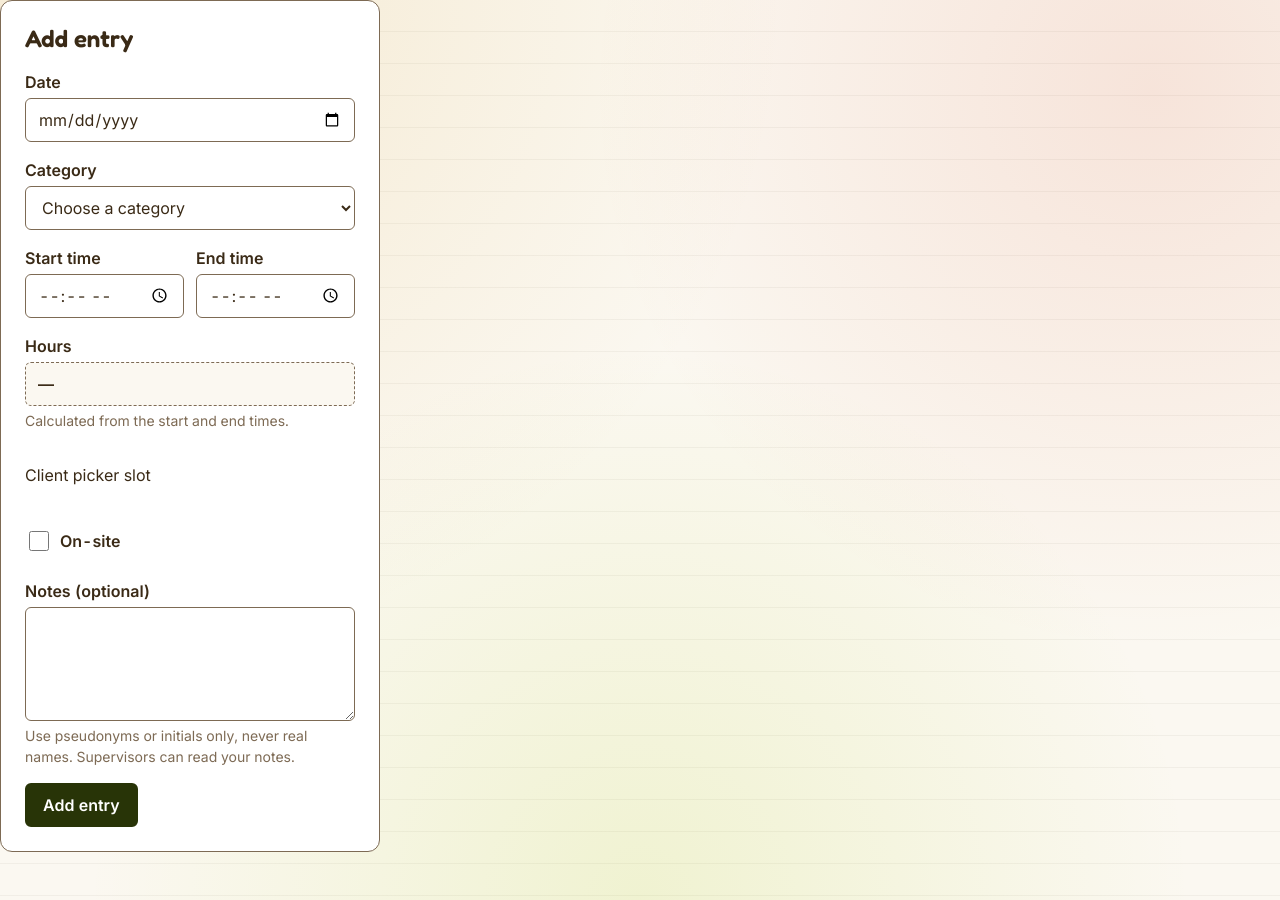
errors › server field errors land on the matching input and the message is shown
Step 1. Type "2026-10-12" into the date field labelled "Date" → x=190, y=120, box [25,98,355,142]
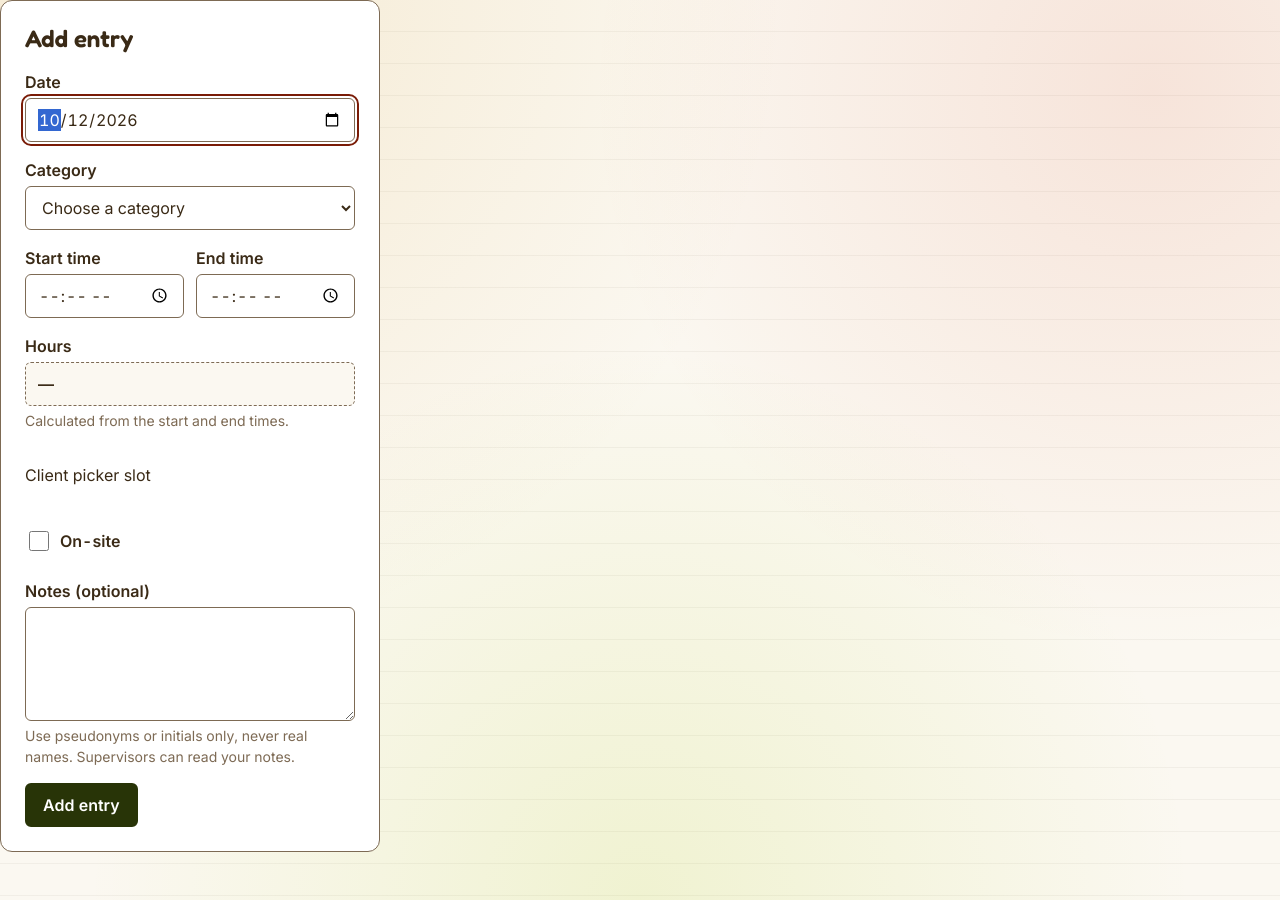
Step 2. Select "Individual Counseling" in the dropdown labelled "Category" → x=190, y=208, box [25,186,355,230]
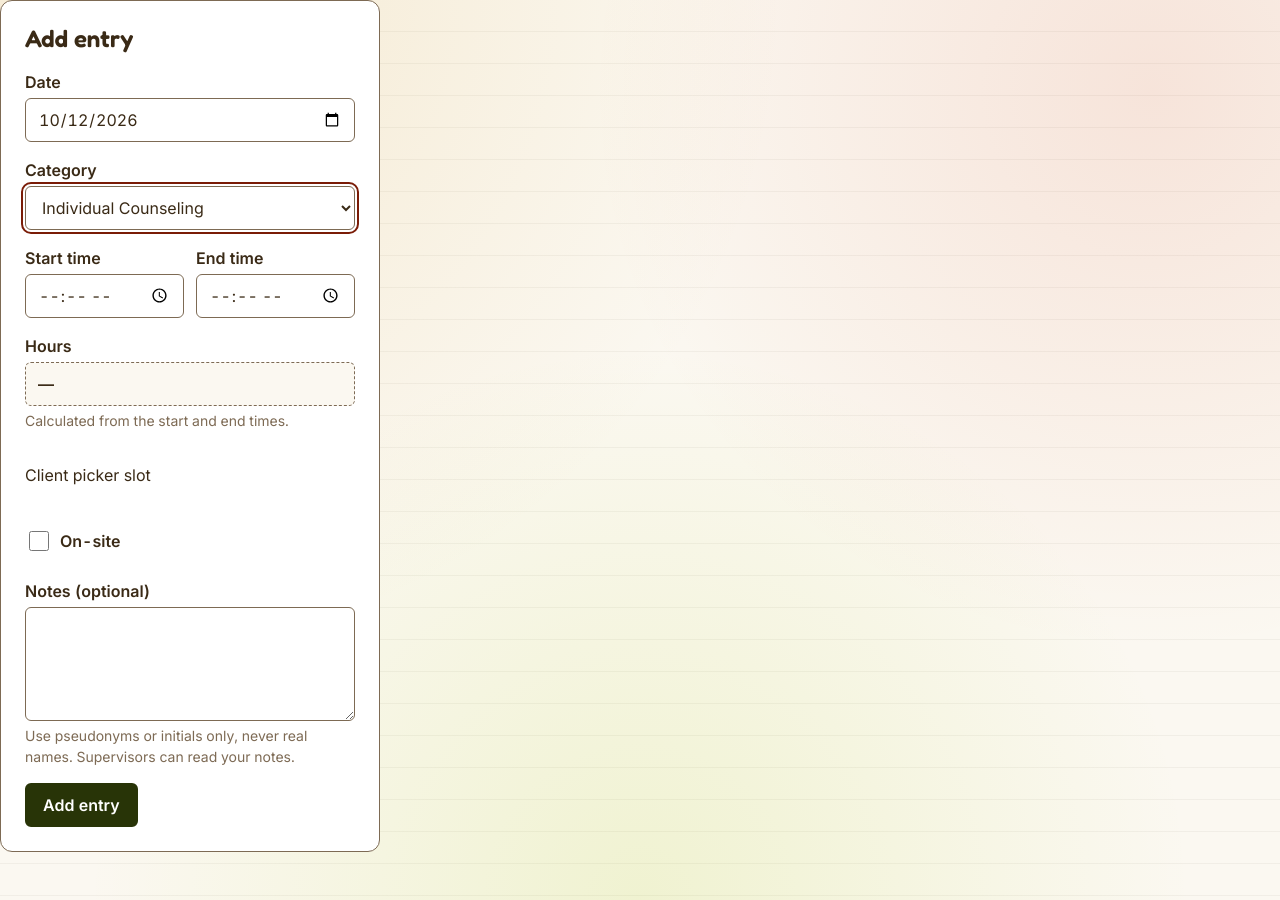
Step 3. Type "0900" into the time field labelled "Start time" → x=104, y=296, box [25,274,184,318]
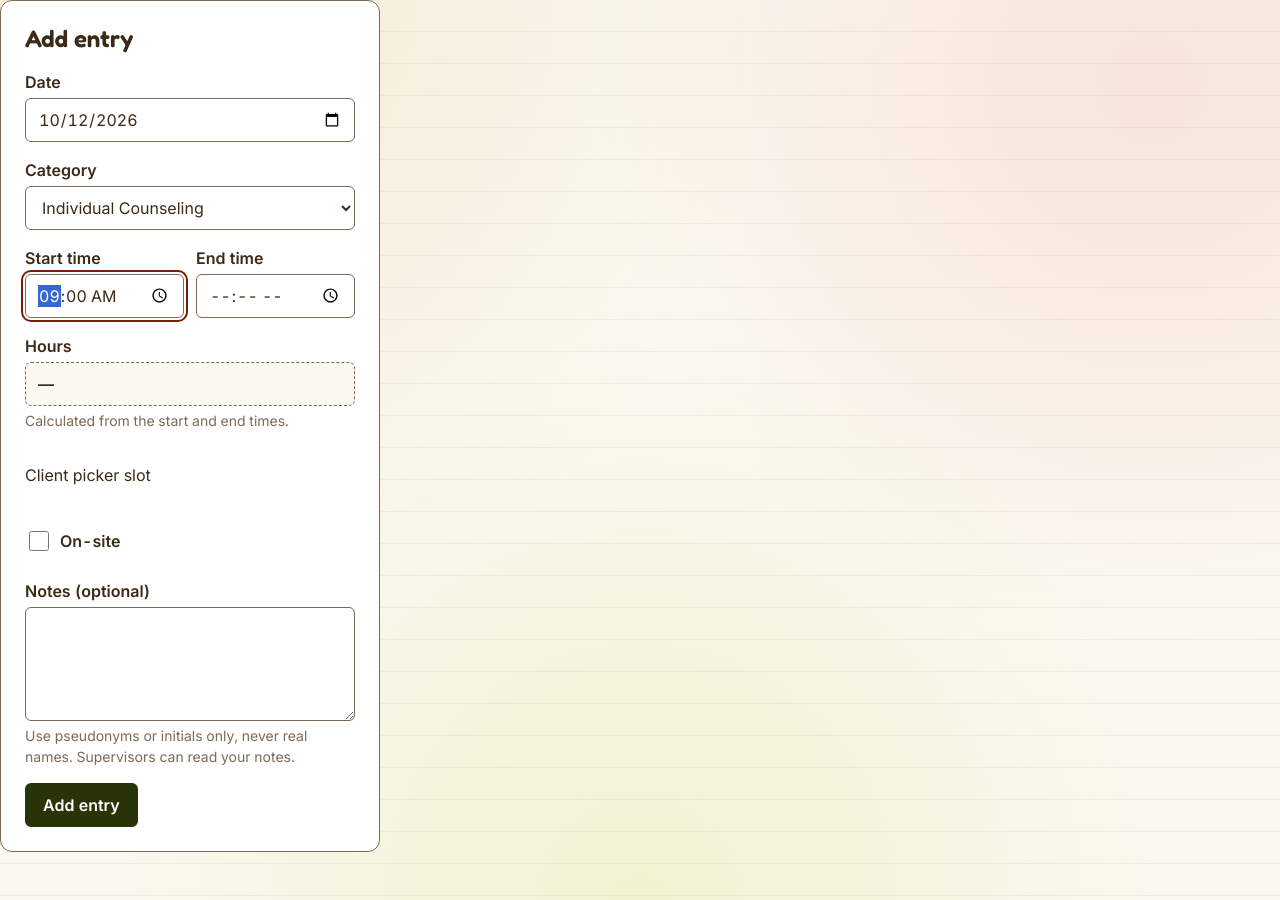
Step 4. Type "1015" into the time field labelled "End time" → x=276, y=296, box [196,274,355,318]
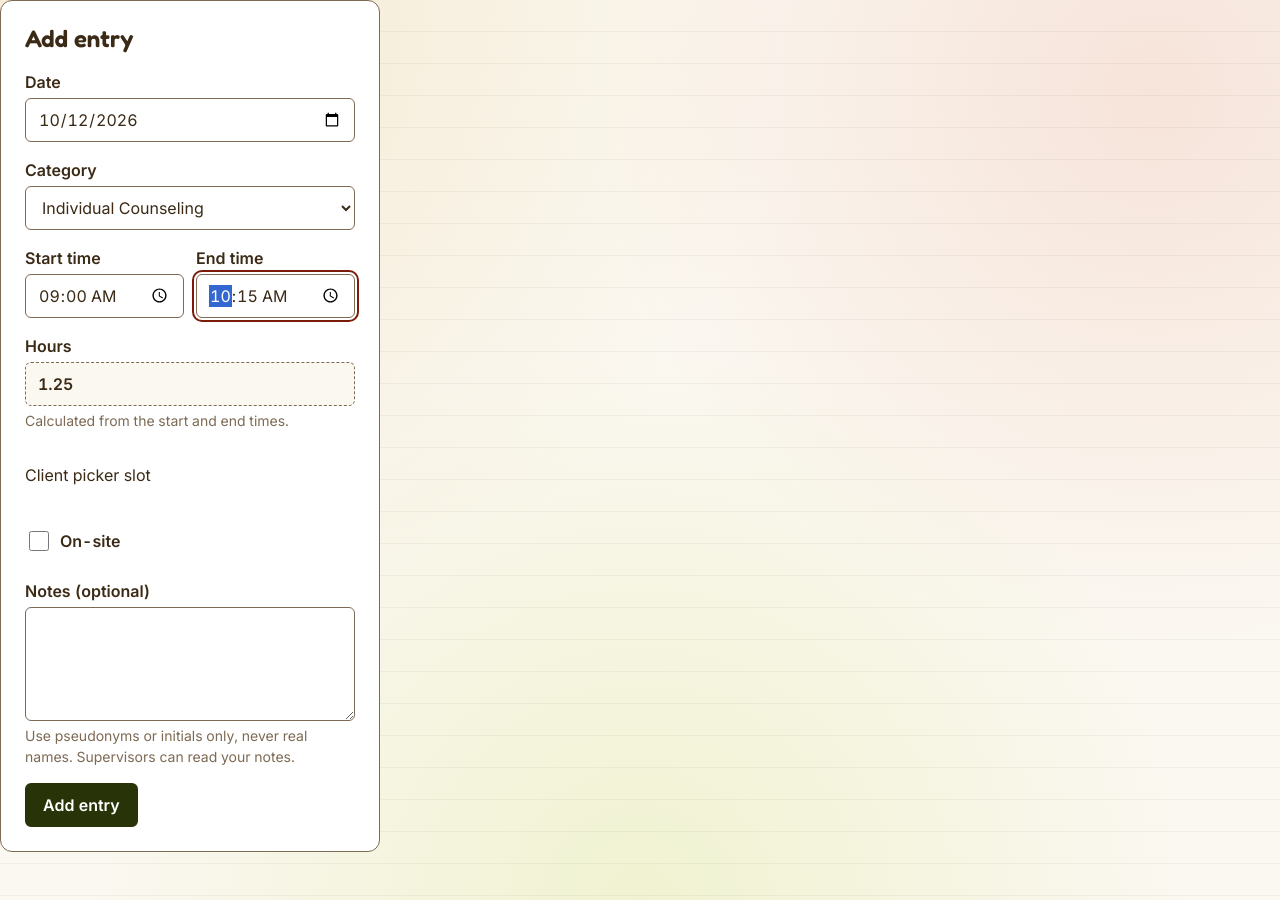
Step 5. Click the button "Add entry" → x=81, y=805, box [25,783,138,827]
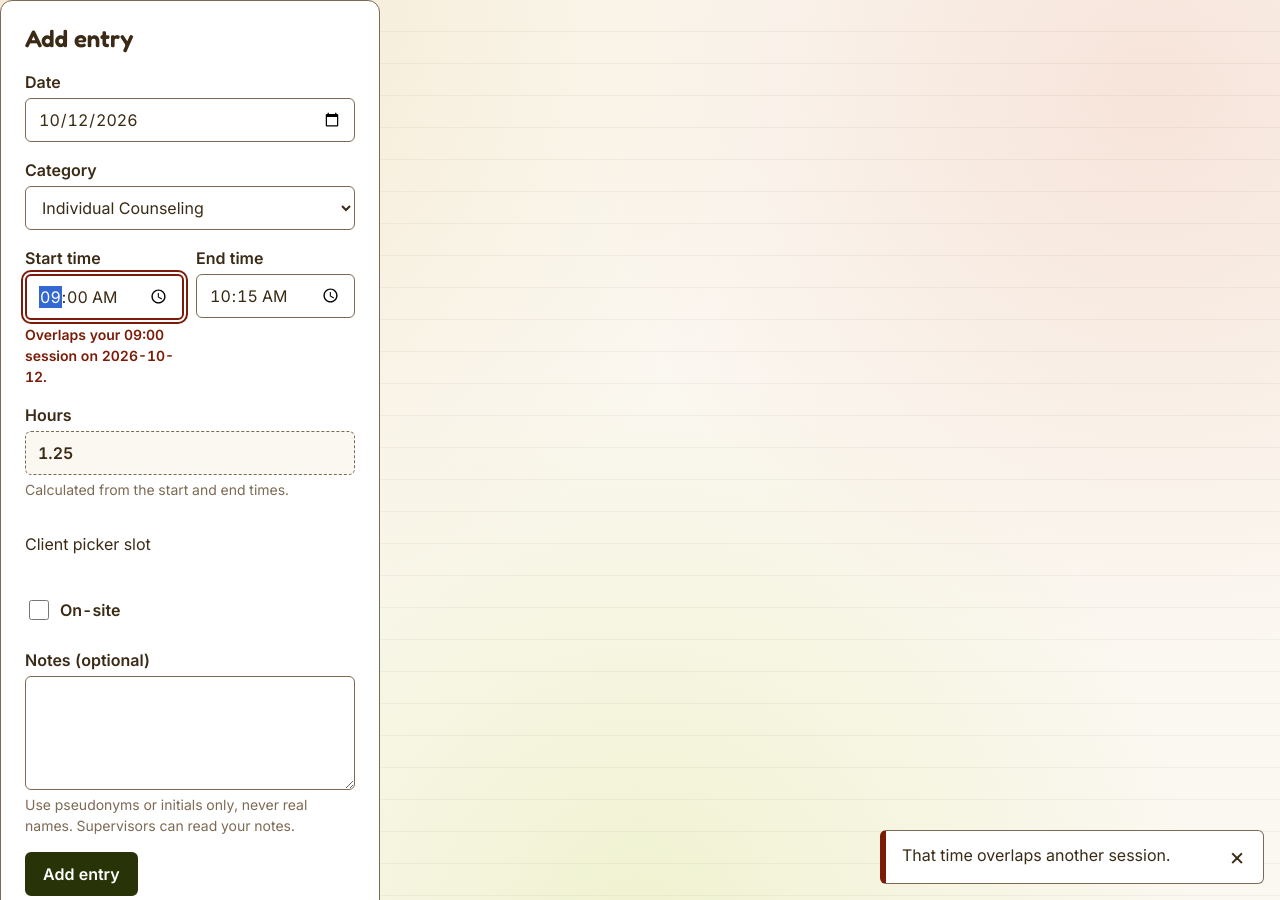
Check: the text "That time overlaps another session." is shown, box [902,843,1203,867]
